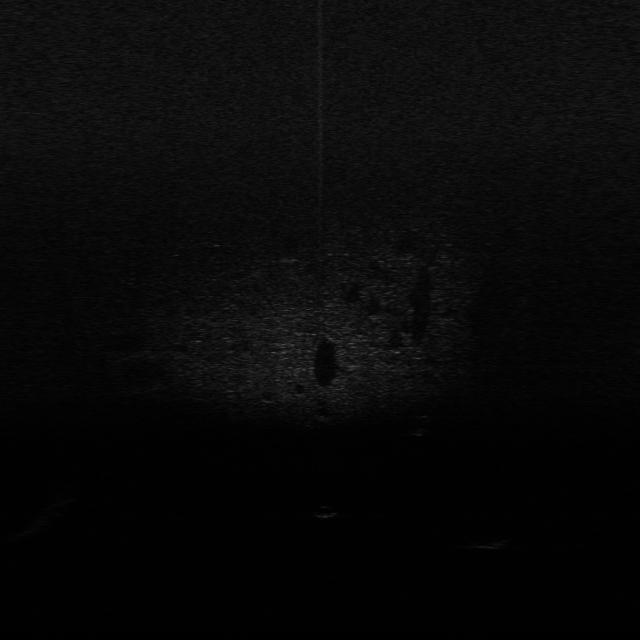ball: (314, 502, 344, 520)
square cage: (471, 534, 512, 550)
tyre: (406, 412, 438, 437)
